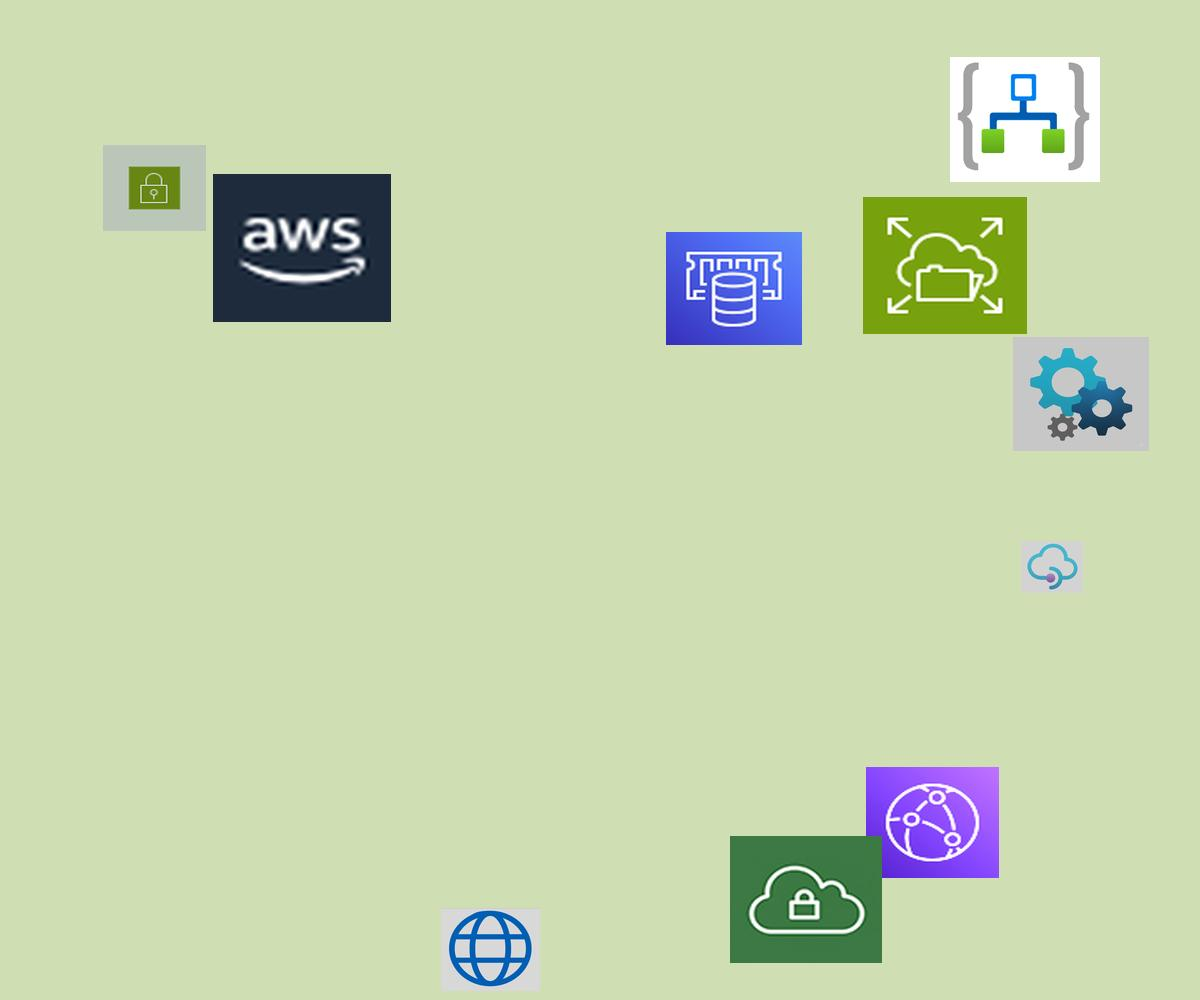AWS-Cloud-logo: (213, 174, 391, 322)
AWS-CloudFront: (866, 767, 999, 878)
AWS-EFS: (863, 197, 1027, 334)
AWS-ElastiCache: (666, 232, 802, 345)
AWS-Private_vpc: (730, 836, 882, 963)
AWS-Public-subnet: (103, 145, 206, 231)
Azure_api: (1013, 337, 1149, 451)
Azure_api_gateway: (1021, 541, 1083, 593)
Azure_http: (441, 908, 540, 991)
Azure_integration-204-Logic-Apps: (950, 57, 1100, 182)
